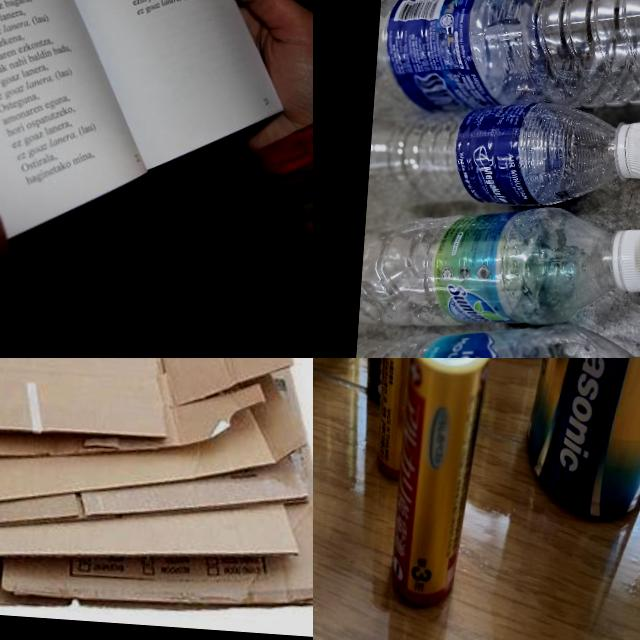bateria: (385, 358, 499, 613), (519, 358, 640, 527), (370, 358, 438, 488), (354, 358, 437, 408)
garrafa plástica: (358, 190, 619, 338), (372, 0, 640, 130), (367, 91, 626, 209), (348, 313, 640, 358)
papel: (0, 0, 302, 259)
papelão: (0, 358, 313, 633)
tampa plástica: (606, 223, 640, 293), (614, 119, 640, 182)
